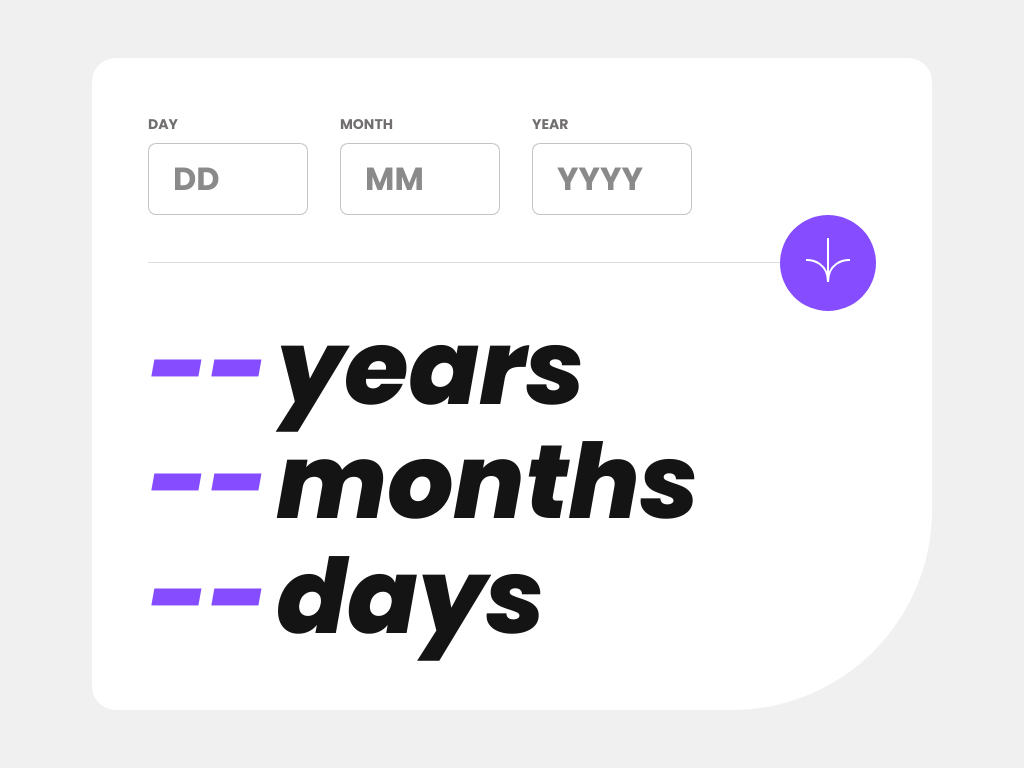
Test: Test in <App /> › Results must be displayed when a valid date is entered
Expected: the text with test id "p-years" reads "--", [148,295,268,440]
Expected: the text with test id "p-months" reads "--", [148,409,268,554]
fill inputs
Type "12" into the number field with test id "input-day" at (228, 179), box [148,143,308,215]
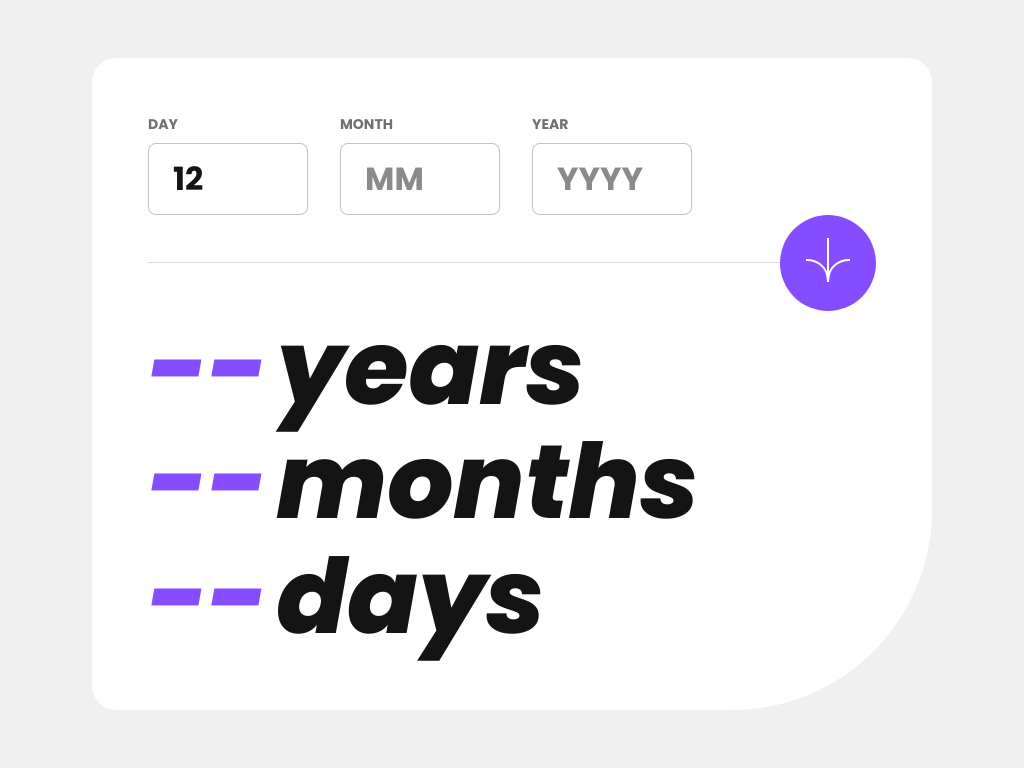
Type "2" into the number field with test id "input-month" at (420, 179), box [340,143,500,215]
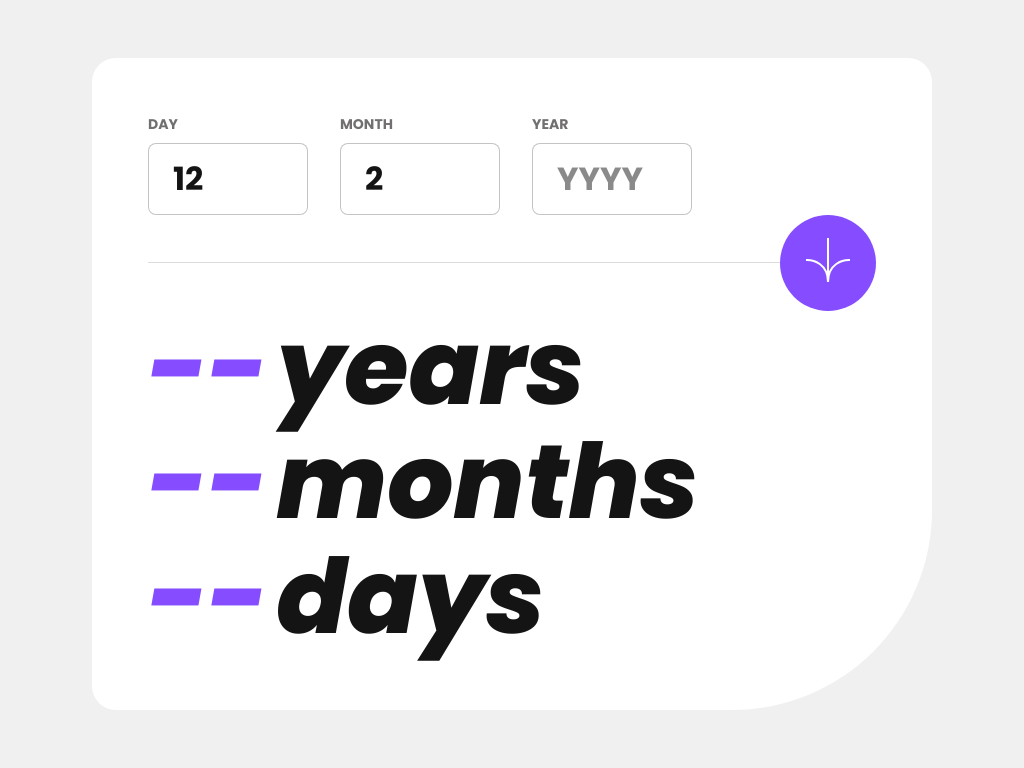
Type "1998" into the number field with test id "input-year" at (612, 179), box [532,143,692,215]
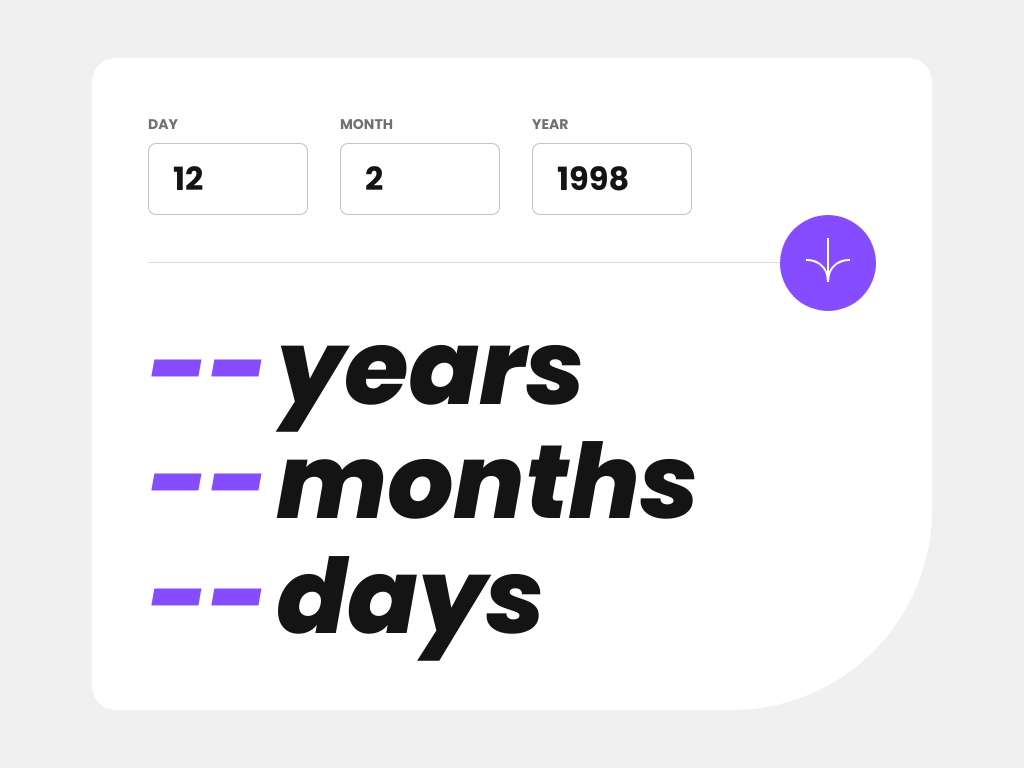
Click the button with test id "button-submit" at (828, 263), box [780,215,876,311]
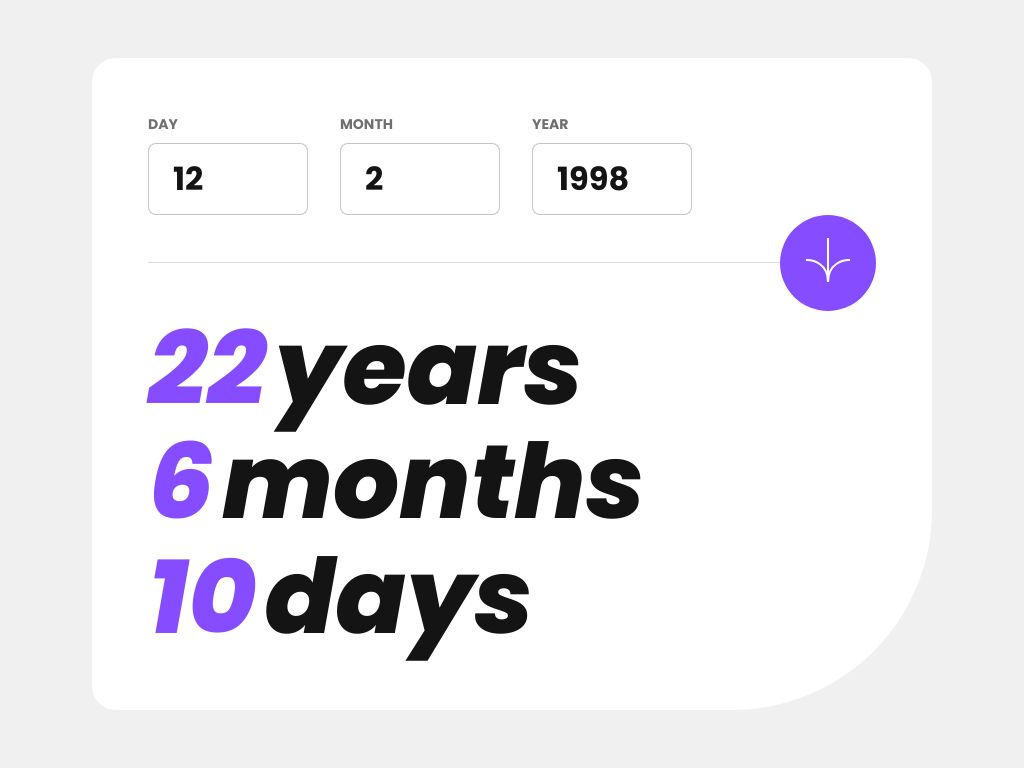
Now the text with test id "p-years" no longer shows "--"
Now the text with test id "p-months" no longer shows "--"
Now the text with test id "p-days" no longer shows "--"
